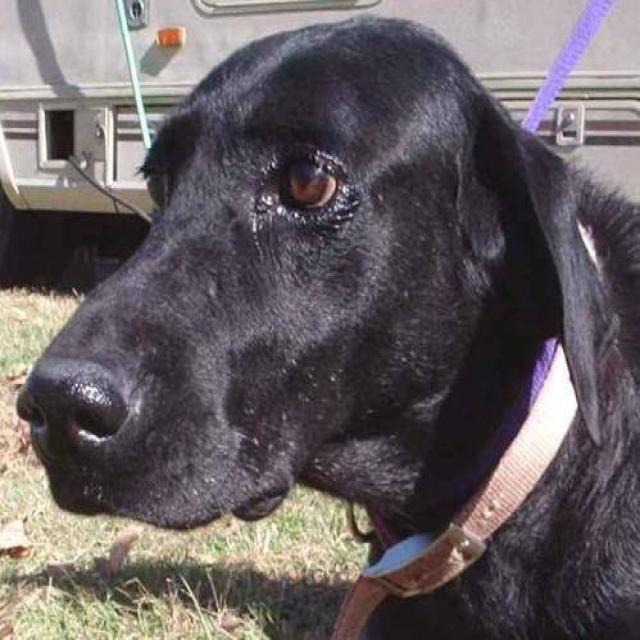dog: (14, 12, 639, 638)
